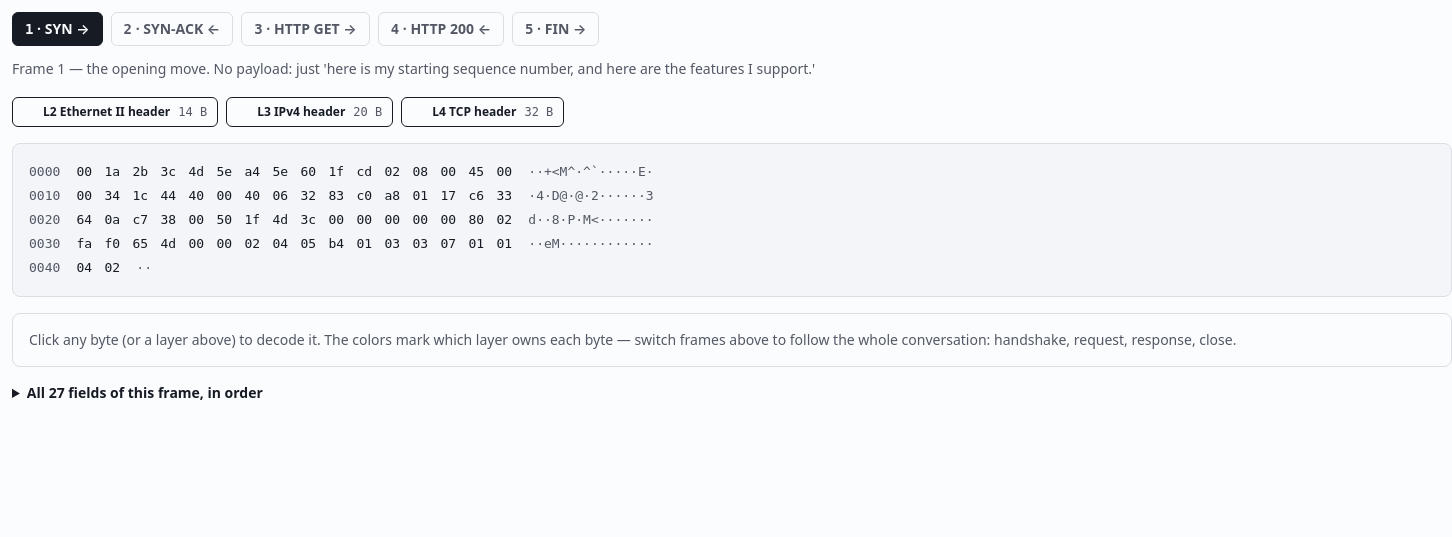
Scenario: PacketWalkthrough › switching frames re-renders the bytes and clears the selection
What coordinates should you click on to do the following:
click the 2nd button "40"
I would click on:
 (252, 196)
Its box is [240, 184, 264, 208].
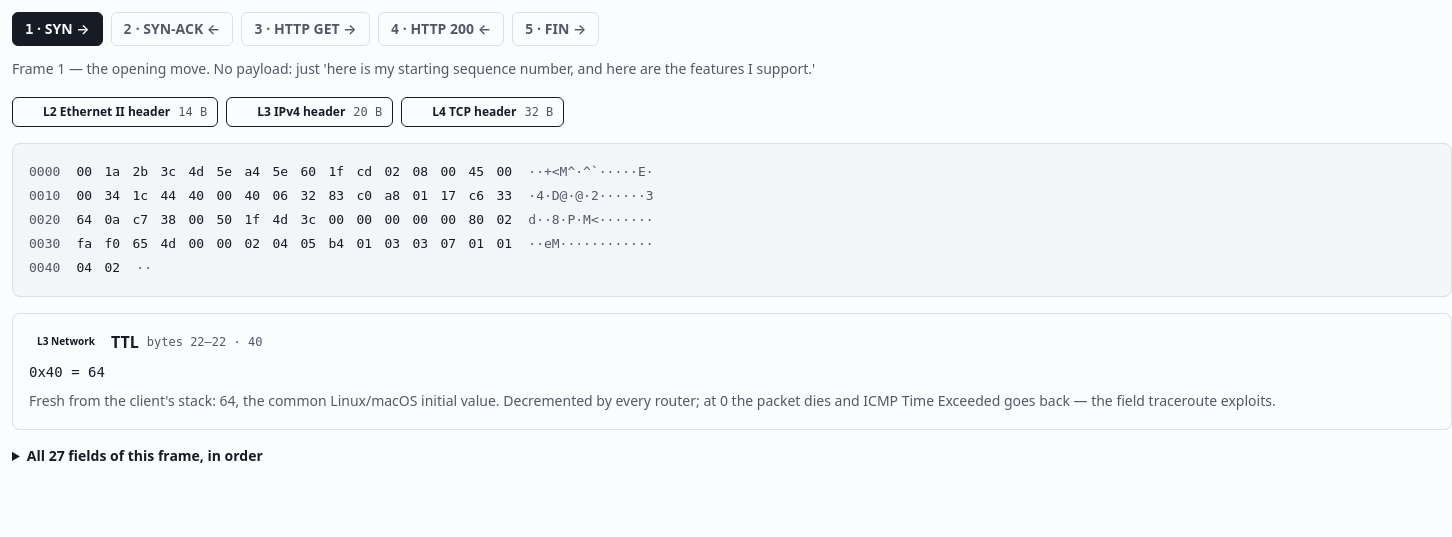
Expected: the text "TTL" is shown, [111, 330, 139, 354]
What coordinates should you click on to do the following:
click the button "4 · HTTP 200 ←"
I would click on:
 (441, 29)
Its box is [378, 12, 504, 46].
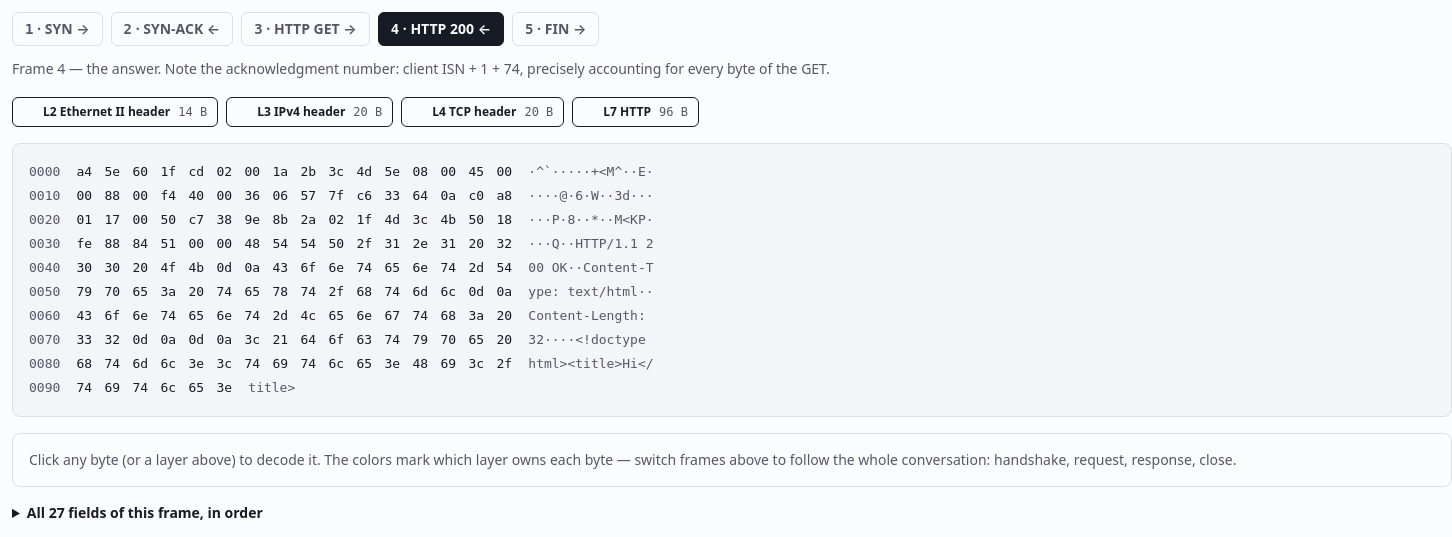
Expected: the text "TTL" is gone
Expected: the number of buttons "a4" is 150
